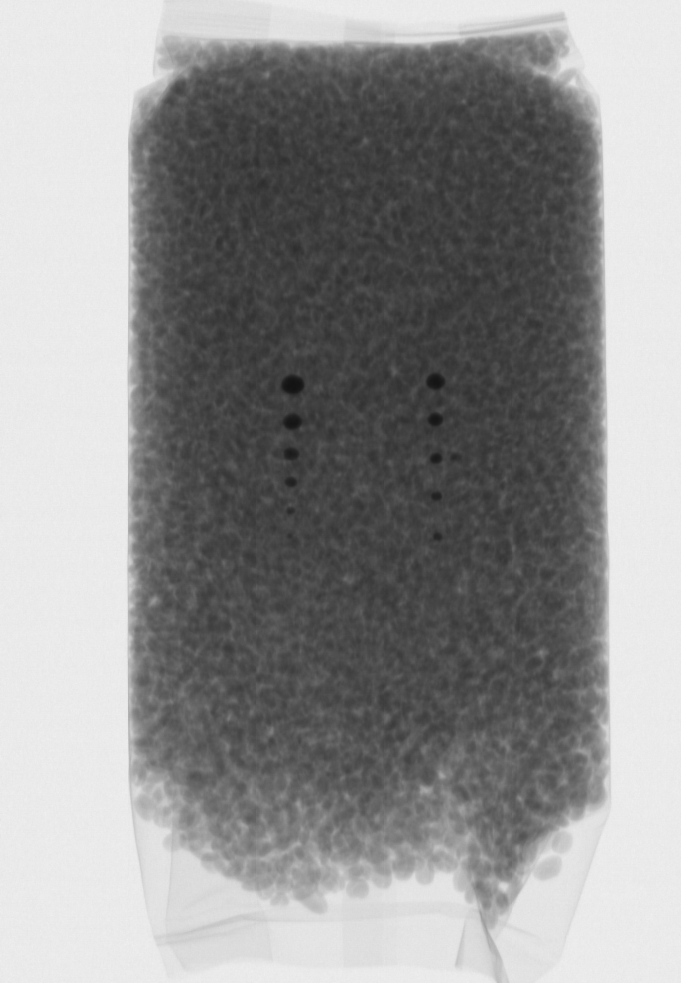glass: (279, 372, 305, 397), (423, 365, 446, 390), (283, 411, 304, 432), (428, 409, 444, 429), (280, 446, 298, 460), (281, 475, 298, 489), (429, 451, 445, 465), (286, 504, 298, 519), (431, 484, 442, 500), (431, 529, 443, 543)
glass_area: (414, 350, 458, 561), (269, 361, 318, 534)
